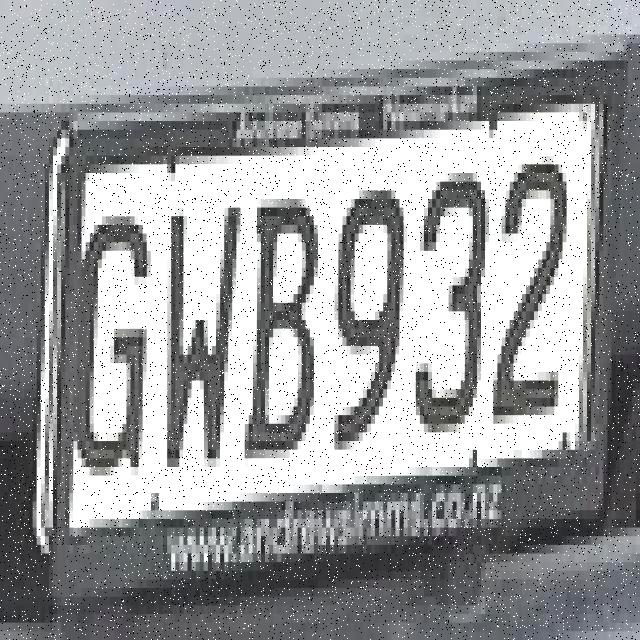licenseplate: (29, 91, 615, 574)
